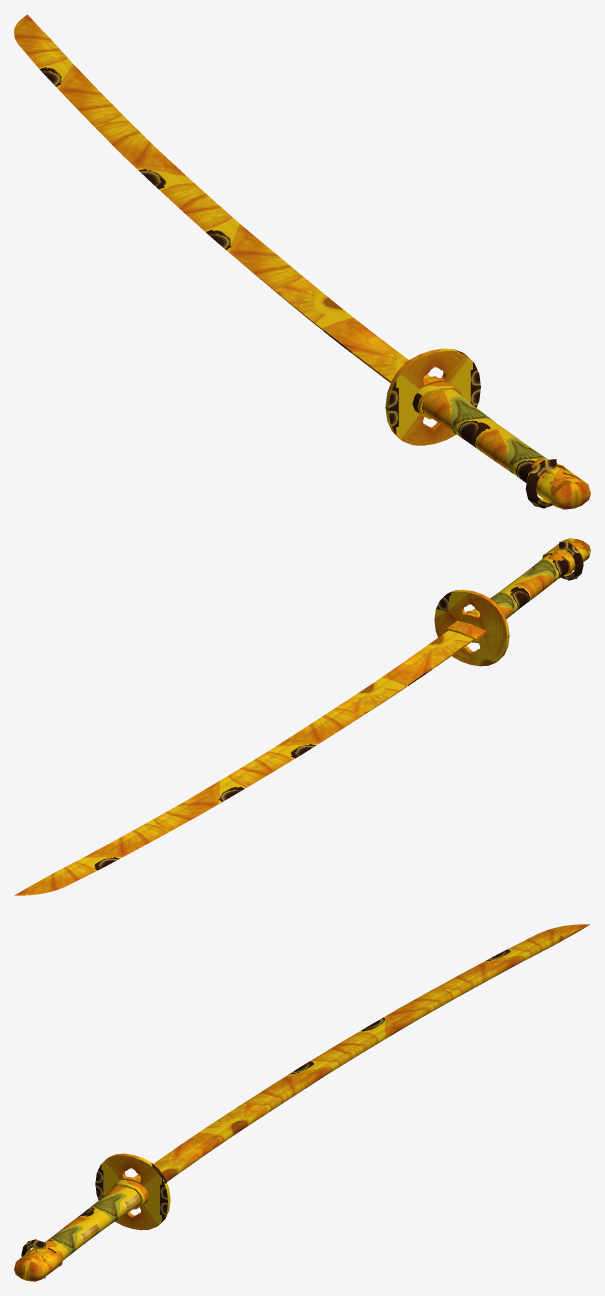
The model's file is sword_musashi_jpsword_musashi_jpsword.glb.
The picture shows the model from 3 angles, top to bottom: view 1: azimuth 30°, elevation 25°; view 2: azimuth 150°, elevation 25°; view 3: azimuth 330°, elevation 25°; orthographic projection. The views are drawn at different scales.
Size of the model in its own units: 0.2024 by 0.1316 by 1.66.
1 material, 1 textured.
